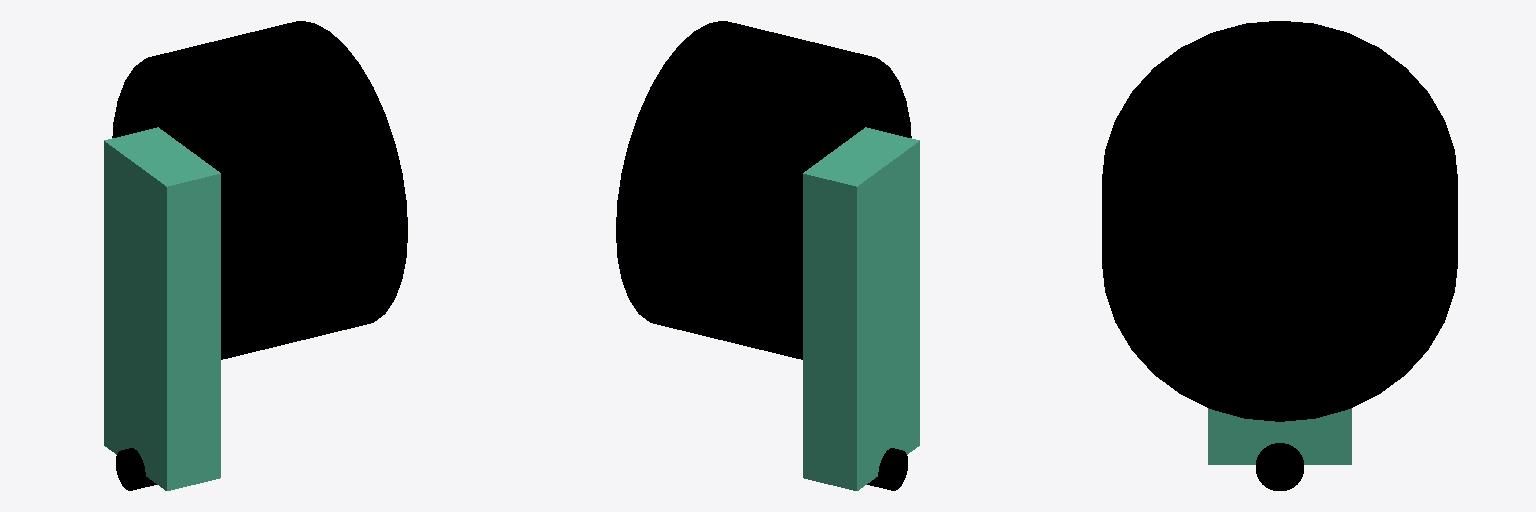
URDF robot description (camel_momentum_inverted_pendulum):
<?xml version="1.0" ?>
<robot name = "camel_momentum_inverted_pendulum">

  <material name="black">
    <color rgba="0.0 0.0 0.0 1.0"/>
  </material>

  <material name="gray">
    <color rgba="0.5 0.5 0.5 1.0"/>
  </material>

  <material name="Aquamarine">
    <color rgba="0.364 0.733 0.608 1.0"/>
  </material>

  <material name="Aqua">
    <color rgba="0.0 0.733 0.733 1.0"/>
  </material>

  <link name="world"/>
  <joint name="fixed_world" type="fixed">
    <parent link="world"/>
    <child link="base"/>
  </joint>

  <link name="base">
    <visual>
      <origin rpy="0 1.570796 0 " xyz="0 0 0.01275"/>
      <geometry>
        <cylinder length="0.02" radius="0.005"/>
      </geometry>
      <material name="black"/>
    </visual>
  </link>

  <joint name="base-roll" type="continuous">
    <origin rpy="0 0 0" xyz="0 0 0.01275"/>
    <parent link="base"/>
    <child link="rod"/>
    <axis xyz="1 0 0"/>
  </joint>

  <link name="rod">
    <visual>
      <origin rpy="0.0 0 0" xyz="0 0 0.04"/>
      <geometry>
        <box size="0.015 0.030 0.08"/>
      </geometry>
      <material name="Aquamarine"/>
    </visual>

    <inertial>
      <mass value="0.0425"/>
      <inertia ixx="2.59e-5" ixy="0.0" ixz="0.0" iyy="2.35e-5" iyz="0.0" izz="3.98e-6"/>
    </inertial>

    <collision>
      <origin rpy="0.0 0 0" xyz="0 0 0.04"/>
      <geometry>
        <box size="0.015 0.03 0.08"/>
      </geometry>
    </collision>
  </link>

  <joint name="motor-revolute" type="revolute">
    <origin rpy="0 0 0" xyz="0.02675 0.0 0.065"/>
    <parent link="rod"/>
    <child link="motor"/>
    <axis xyz = "1 0 0"/>
    <limit velocity= "17"/>
  </joint>

  <link name="motor">
    <visual>
      <origin rpy="0 1.570796 0" xyz="0 0 0"/>
      <geometry>
        <cylinder length="0.0385" radius="0.0372"/>
      </geometry>
      <material name="black"/>
    </visual>

    <inertial>
      <mass value="0.335"/>
      <inertia ixx="2.42e-4" ixy="0.0" ixz="0.0" iyy="1.53e-4" iyz="0.0" izz="1.53e-4"/>
    </inertial>
  </link>




</robot>

--- Facts derived from the render (not from the file) ---
3 views of the same robot in one strip: view 1: azimuth 30°, elevation 25°; view 2: azimuth 150°, elevation 25°; view 3: azimuth 270°, elevation 25° (orthographic).
Robot: camel_momentum_inverted_pendulum — 4 links, 3 joints (1 revolute, 1 continuous, 1 fixed); root link world; default pose: all joints at 0.
Visible links, largest first — view 1: motor, rod, base; view 2: motor, rod, base; view 3: motor, rod, base.
Link boxes in pixels (<box>): motor: <box>112,21,407,359</box>; rod: <box>104,127,220,490</box>; base: <box>116,448,156,490</box>; motor: <box>616,21,911,359</box>; rod: <box>803,127,919,490</box>; base: <box>867,448,907,490</box>; motor: <box>1102,21,1457,421</box>; rod: <box>1208,408,1351,464</box>; base: <box>1256,443,1303,490</box>.
Bounding box of the posed robot: 0.056 × 0.0744 × 0.1072 m (x, y, z).
Geometry: primitives only (box / cylinder / sphere), no mesh files.